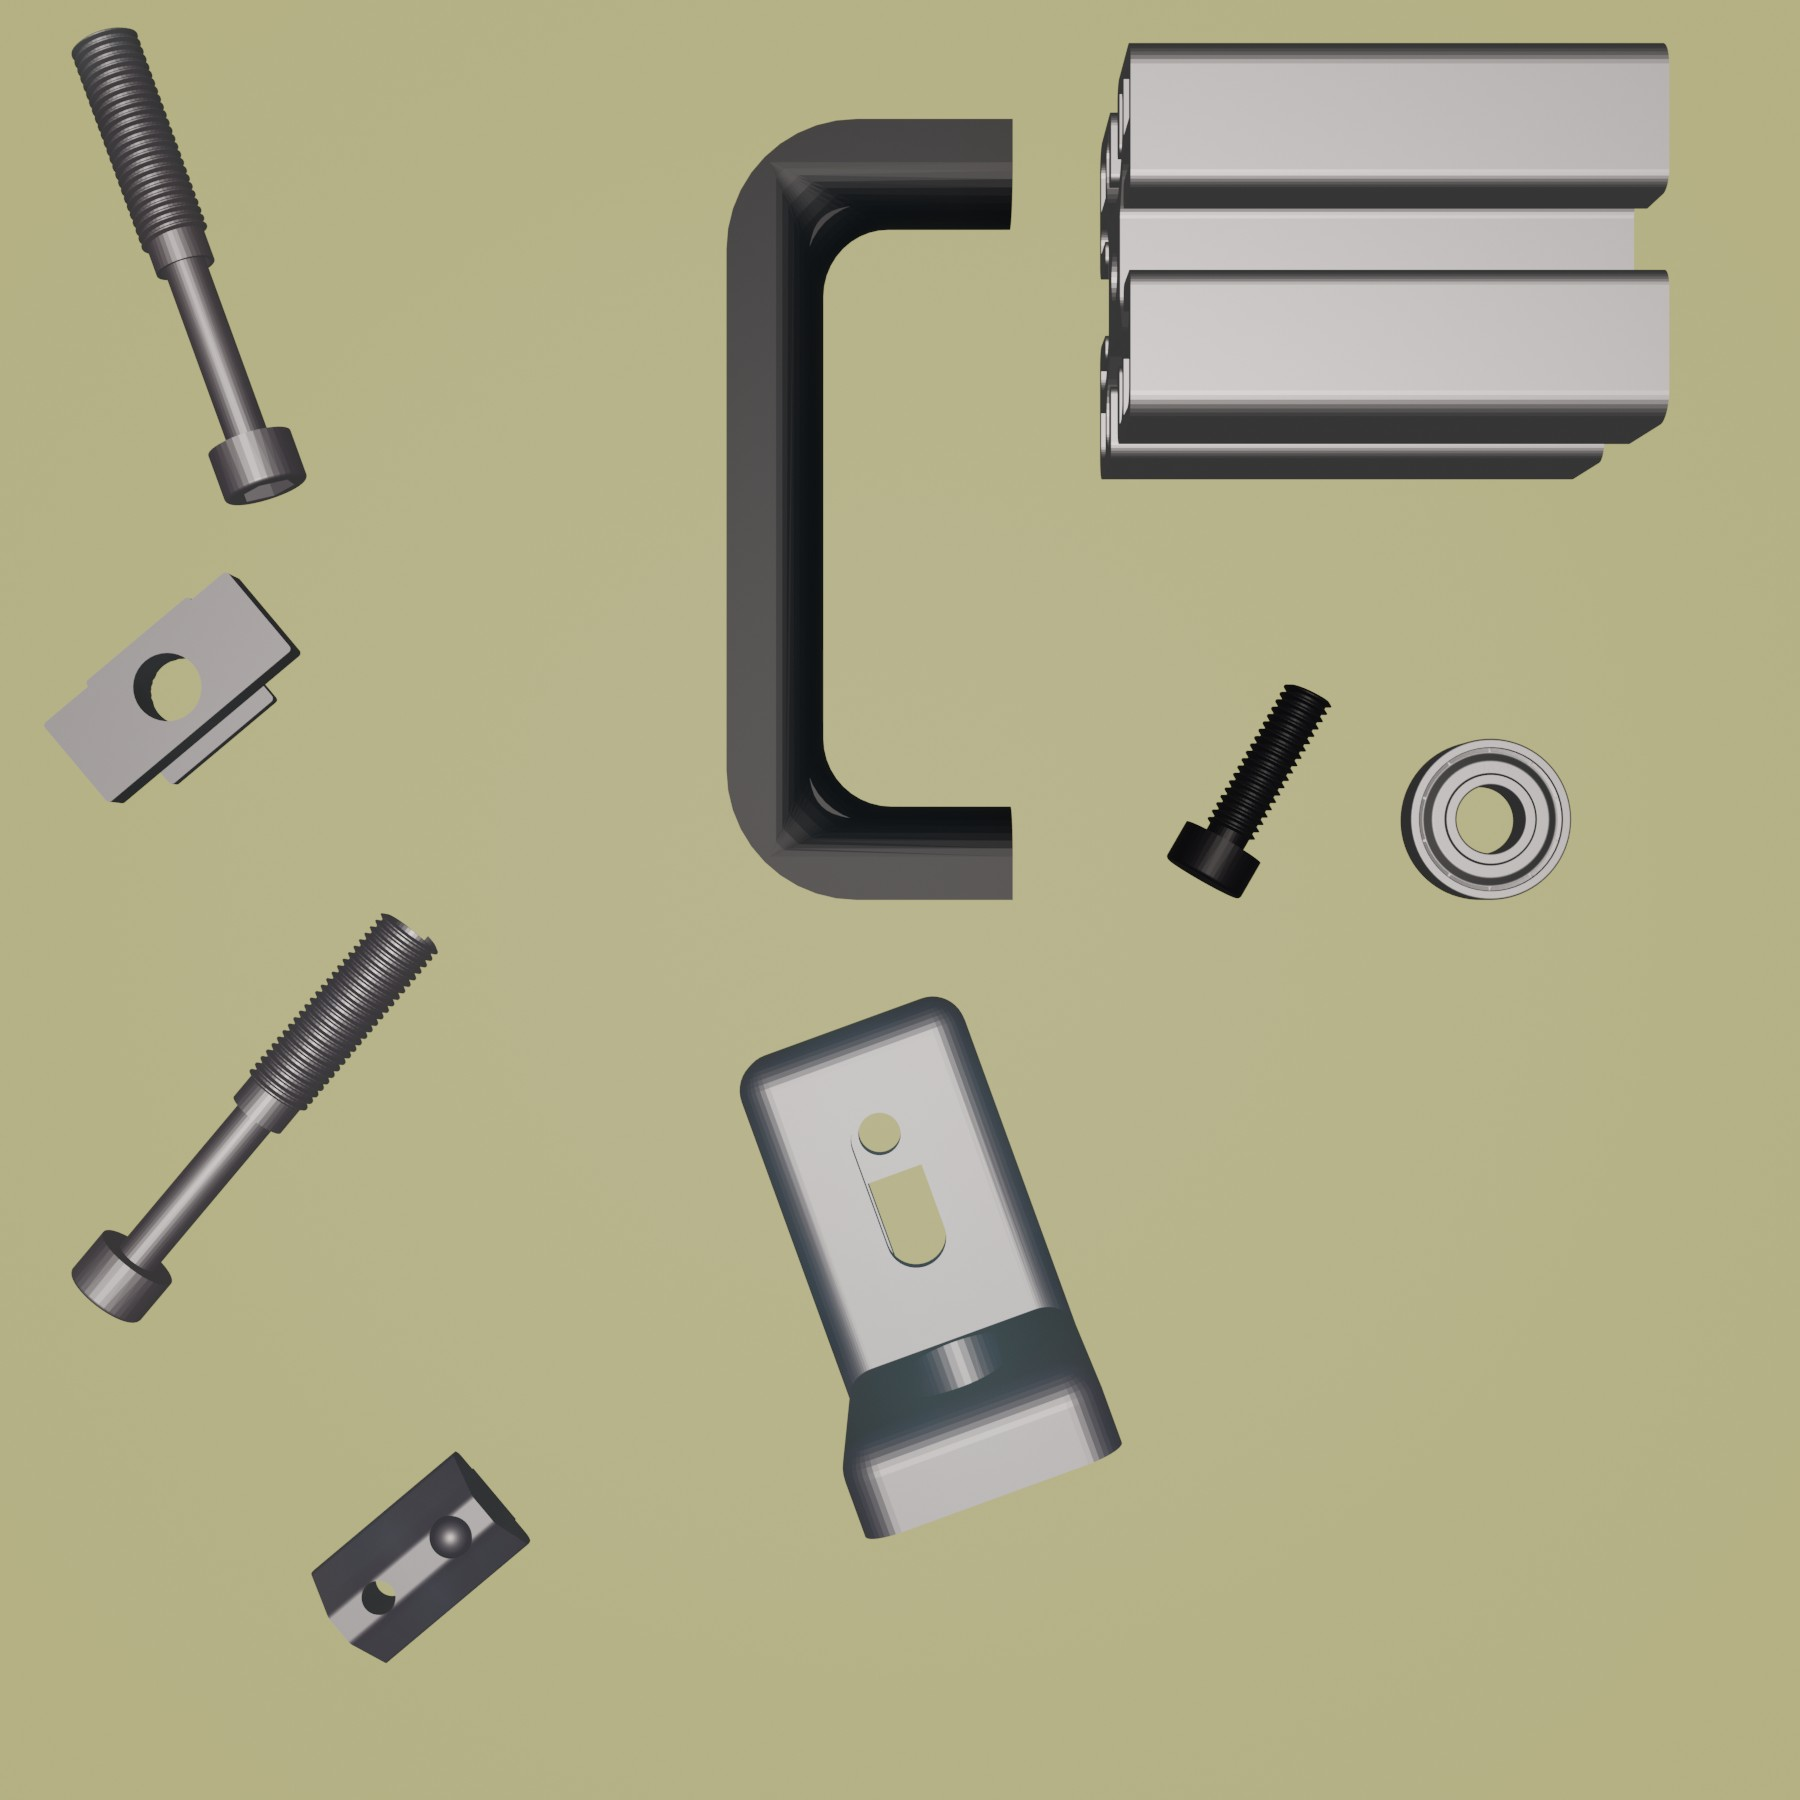Aluminium Extension: (1095, 35, 1675, 485)
Ball Bearing: (1398, 737, 1573, 903)
Multiwinkel: (735, 992, 1124, 1541)
Pull Handle: (719, 112, 1020, 907)
Shoulder Socket Head Cap Screw: (69, 908, 440, 1325), (68, 23, 308, 509)
Socket Head Cap Screw: (1164, 681, 1330, 902)
T Nut Square: (40, 570, 302, 808)
T Spring Nut: (308, 1446, 532, 1665)
